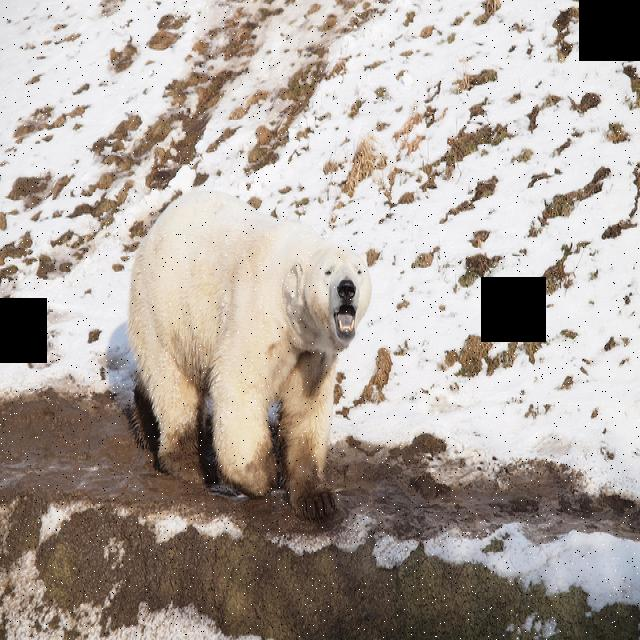Bear: (116, 178, 380, 537)
